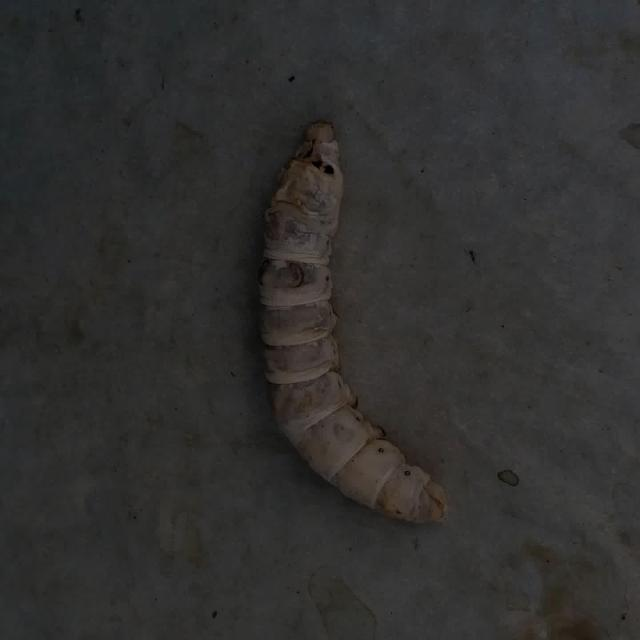Grasserie: (244, 110, 466, 541)
